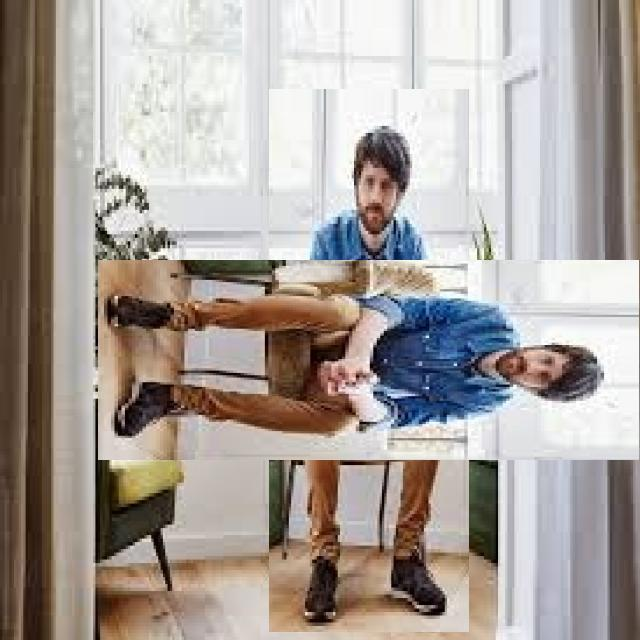NotFall: (111, 258, 608, 457)
